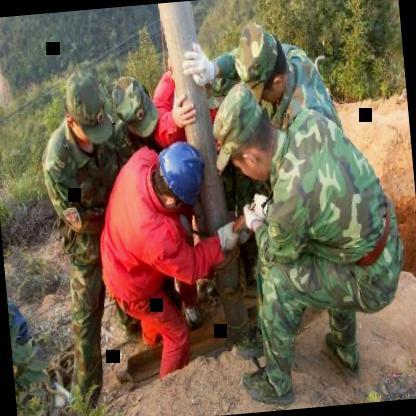head: (209, 78, 282, 186), (230, 20, 292, 108), (57, 61, 108, 163), (112, 70, 160, 146)
helmet: (148, 138, 210, 223)
